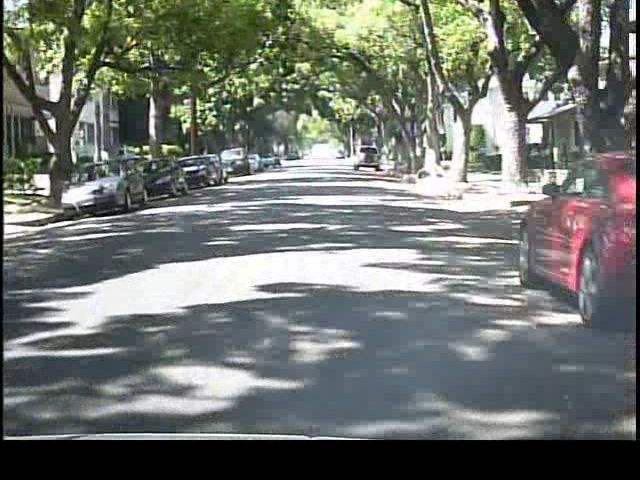person: (89, 142, 115, 196)
